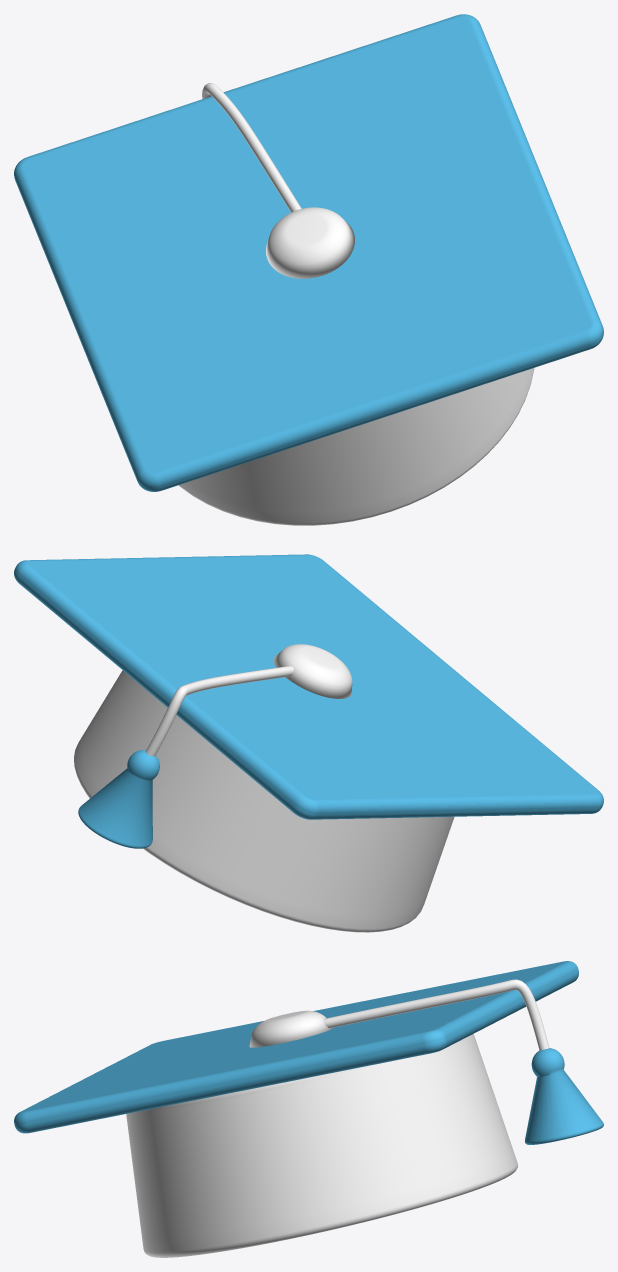
The model's file is school-of-education.glb.
The picture shows the model from 3 angles, top to bottom: view 1: azimuth 30°, elevation 25°; view 2: azimuth 150°, elevation 25°; view 3: azimuth 270°, elevation 25°; orthographic projection. The views are drawn at different scales.
Visible parts, largest first — view 1: top/color, base/glass, top-button/glass, cord/glass; view 2: top/color, base/glass, floch/color, top-button/glass, cord/glass; view 3: base/glass, top/color, floch/color, cord/glass, top-button/glass.
Part boxes in pixels (x1=…): top/color: x1=14, y1=14, x2=603, y2=491; base/glass: x1=178, y1=368, x2=534, y2=525; top-button/glass: x1=266, y1=207, x2=354, y2=278; cord/glass: x1=202, y1=83, x2=301, y2=212; top/color: x1=14, y1=554, x2=603, y2=819; base/glass: x1=74, y1=670, x2=454, y2=932; floch/color: x1=78, y1=750, x2=159, y2=848; top-button/glass: x1=273, y1=644, x2=352, y2=698; cord/glass: x1=145, y1=666, x2=293, y2=756; base/glass: x1=126, y1=1034, x2=517, y2=1257; top/color: x1=14, y1=961, x2=578, y2=1133; floch/color: x1=525, y1=1048, x2=603, y2=1144; cord/glass: x1=323, y1=979, x2=549, y2=1050; top-button/glass: x1=249, y1=1010, x2=332, y2=1047.
Size of the model in its own units: 2.54 by 1.78 by 2.85.
